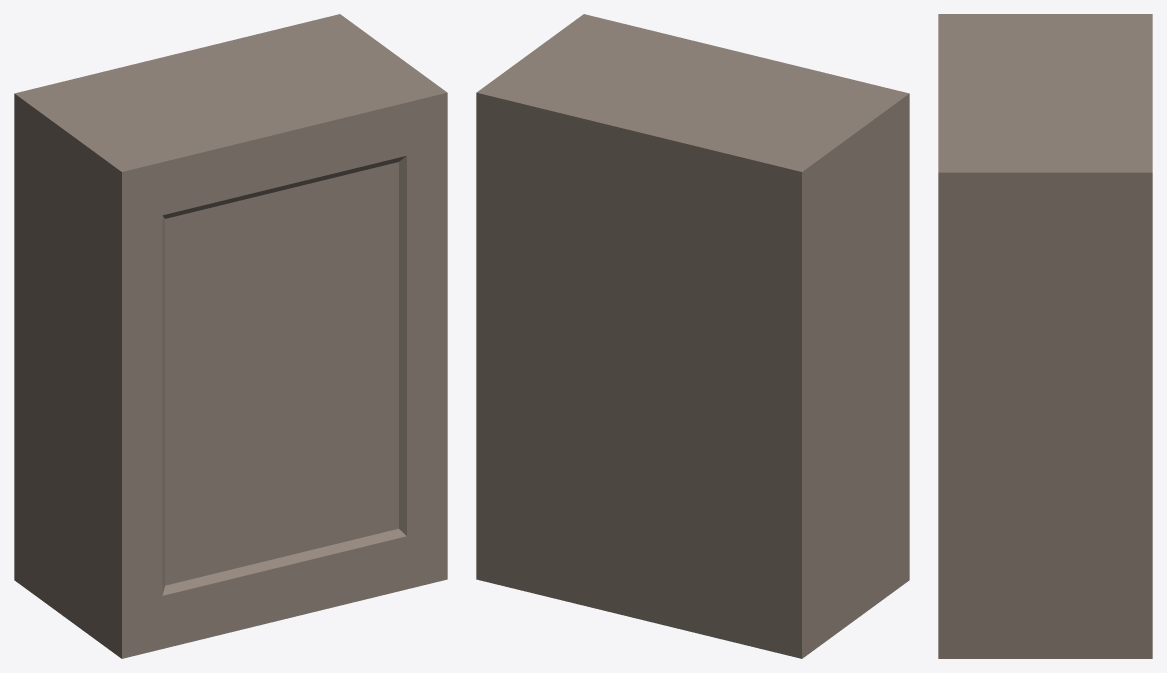
Rendered from Wall-Cabinet-Single-Door-with-Shelves_std_001_H30in_onlyH.glb.
The picture shows the model from 3 angles, left to right: view 1: azimuth 30°, elevation 25°; view 2: azimuth 150°, elevation 25°; view 3: azimuth 270°, elevation 25°; orthographic projection.
Visible parts, largest first — view 1: Wall-Cabinet-Single-Door-with-Shelves.std.001_H30in_onlyH; view 2: Wall-Cabinet-Single-Door-with-Shelves.std.001_H30in_onlyH; view 3: Wall-Cabinet-Single-Door-with-Shelves.std.001_H30in_onlyH.
Part boxes in pixels (box(x1,y1,x2,y2)): Wall-Cabinet-Single-Door-with-Shelves.std.001_H30in_onlyH: box(14, 14, 447, 658); Wall-Cabinet-Single-Door-with-Shelves.std.001_H30in_onlyH: box(476, 14, 909, 658); Wall-Cabinet-Single-Door-with-Shelves.std.001_H30in_onlyH: box(938, 14, 1152, 658).
Size of the model in its own units: 0.5334 by 0.762 by 0.3048.
